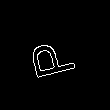P_W: (18, 40, 76, 88)
